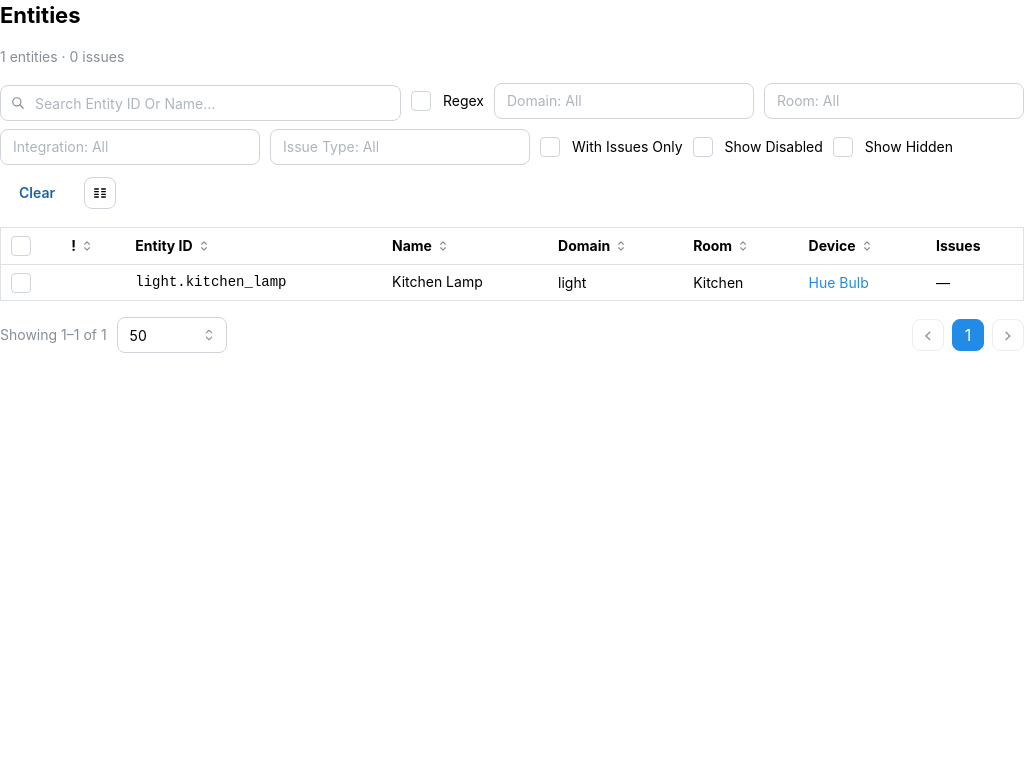
Test: EntitiesPage › column-visibility gear toggles persist in localStorage scoped to entities
Expected: the text "light.kitchen_lamp" is shown, [135, 274, 286, 290]
Click the button named "Columns": {"x": 100, "y": 193} [84, 177, 116, 209]
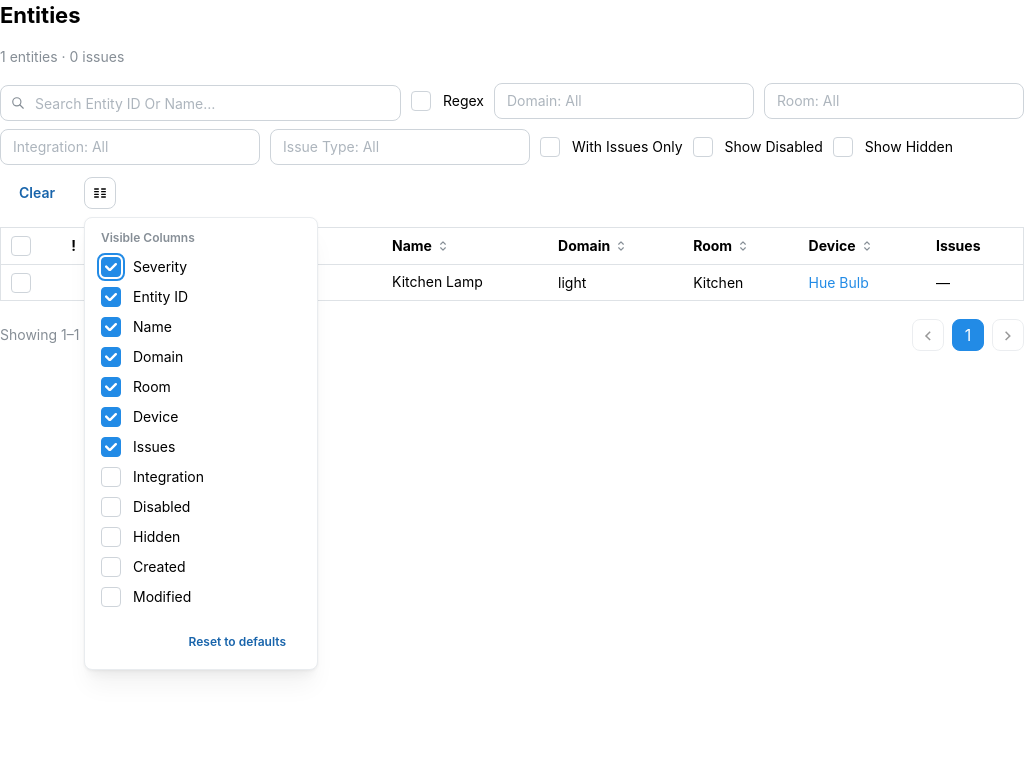
Click the checkbox labelled "Integration": {"x": 111, "y": 477} [101, 467, 121, 487]
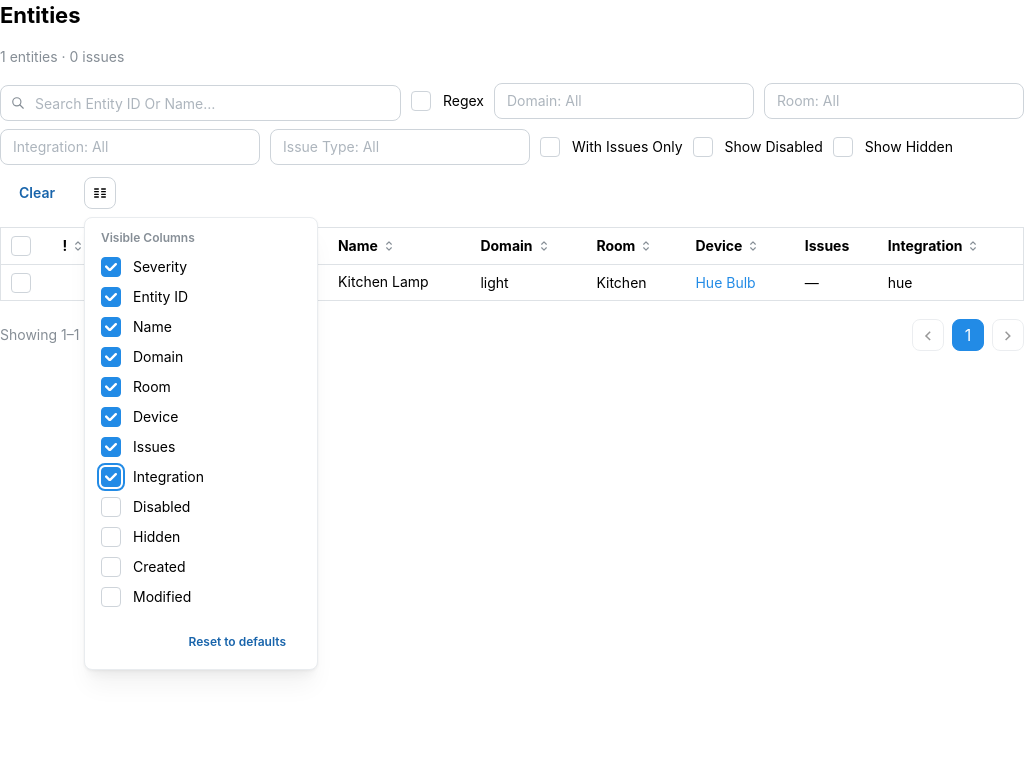
Expected: the button with aria-label "Sort by Integration" is shown, [888, 235, 980, 257]
